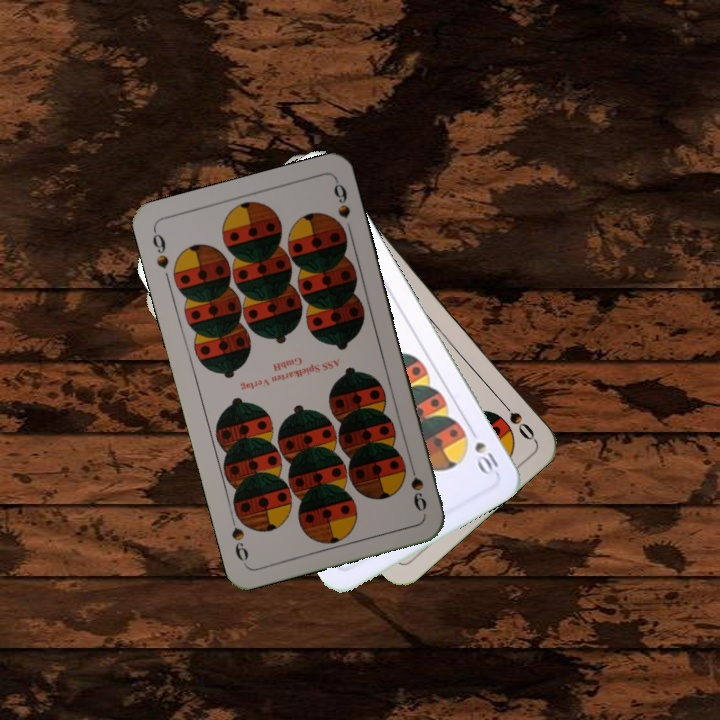S10: (465, 423, 501, 479)
S9: (405, 457, 429, 514), (148, 226, 172, 272)
SO: (494, 394, 538, 443)
